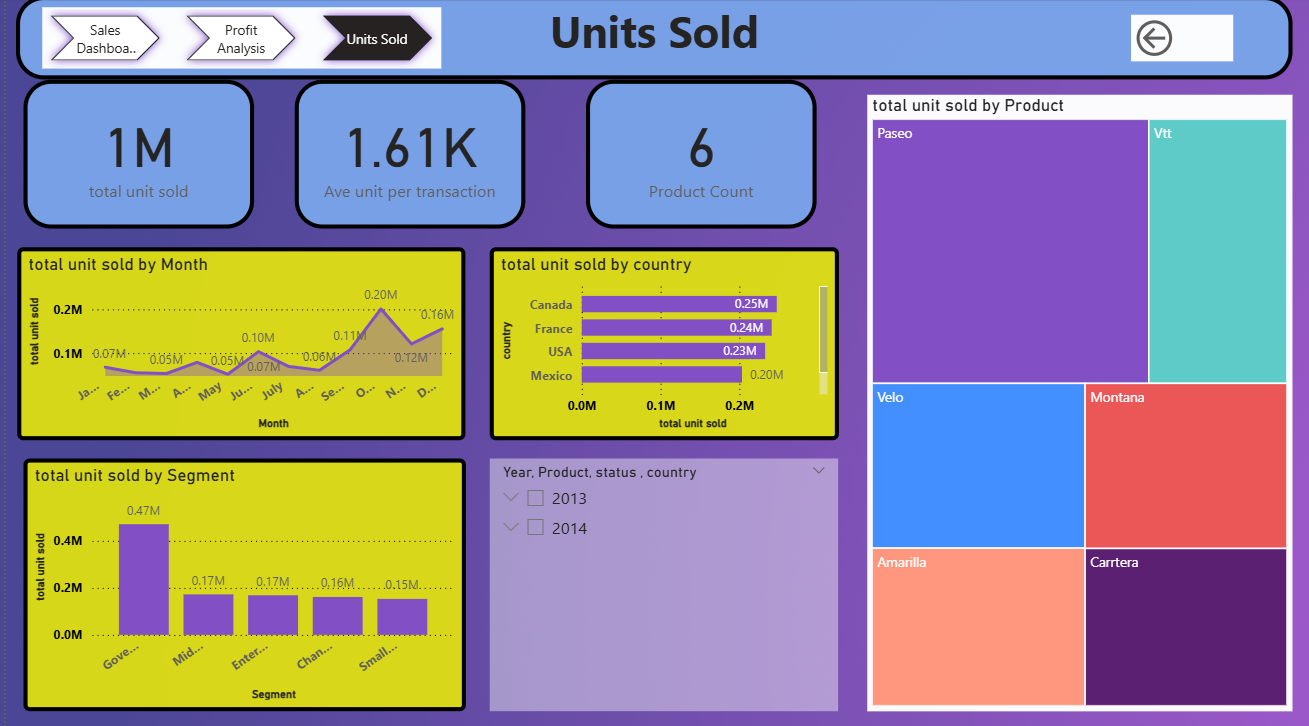

The page's visual inventory and layout, read from the dashboard file:
{"tool":"powerbi","page":{"name":"Units Sold","canvas":[1280,720],"ordinal":2},"visuals":[{"type":"textbox","box":[10,0,1248.6,81.4],"z":0},{"type":"card","fields":{"Values":["Financial Data.total unit sold"]},"box":[17.1,81.4,225.7,145.7],"z":1000},{"type":"card","fields":{"Values":["Financial Data.Ave unit per row"]},"box":[282.9,81.4,225.7,145.7],"z":2000},{"type":"card","fields":{"Values":["Financial Data.Product Count"]},"box":[567.1,81.4,225.7,145.7],"z":3000},{"type":"areaChart","fields":{"Category":["Financial Data.Date.Variation.Date Hierarchy.Year","Financial Data.Date.Variation.Date Hierarchy.Quarter","Financial Data.Date.Variation.Date Hierarchy.Month","Financial Data.Date.Variation.Date Hierarchy.Day"],"Y":["Financial Data.total unit sold"]},"box":[11.4,245.7,438.6,188.6],"z":4000},{"type":"clusteredColumnChart","fields":{"Category":["Financial Data.Segment"],"Y":["Financial Data.total unit sold"]},"box":[17.1,452.9,432.9,247.1],"z":5000},{"type":"barChart","fields":{"Category":["Financial Data.country"],"Y":["Financial Data.total unit sold"]},"box":[472.9,245.7,341.4,188.6],"z":6000},{"type":"treemap","fields":{"Group":["Financial Data.Product"],"Values":["Financial Data.total unit sold"]},"box":[842.9,97.1,415.7,602.9],"z":7000},{"type":"slicer","fields":{"Values":["Financial Data.Date.Variation.Date Hierarchy.Year","Financial Data.Product","Financial Data.status ","Financial Data.country"]},"box":[473,453,341,247],"z":8000},{"type":"actionButton","box":[1100,18.6,100,45.7],"z":9000},{"type":"pageNavigator","box":[35.7,11.4,390,60],"z":9001}]}

Visuals, with their boxes in screenshot pixels (x1, y1, x2, y2), scaled from the page's 1280x720 canvas onto the 1309x726 screenshot:
textbox: 10, 0, 1287, 82
card - Financial Data.total unit sold: 17, 82, 248, 229
card - Financial Data.Ave unit per row: 289, 82, 520, 229
card - Financial Data.Product Count: 580, 82, 811, 229
areaChart - Financial Data.Date.Variation.Date Hierarchy.Year x Financial Data.Date.Variation.Date Hierarchy.Quarter: 12, 248, 460, 438
clusteredColumnChart - Financial Data.Segment x Financial Data.total unit sold: 17, 457, 460, 706
barChart - Financial Data.country x Financial Data.total unit sold: 484, 248, 833, 438
treemap - Financial Data.Product x Financial Data.total unit sold: 862, 98, 1287, 706
slicer - Financial Data.Date.Variation.Date Hierarchy.Year x Financial Data.Product: 484, 457, 832, 706
actionButton: 1125, 19, 1227, 65
pageNavigator: 37, 11, 435, 72
